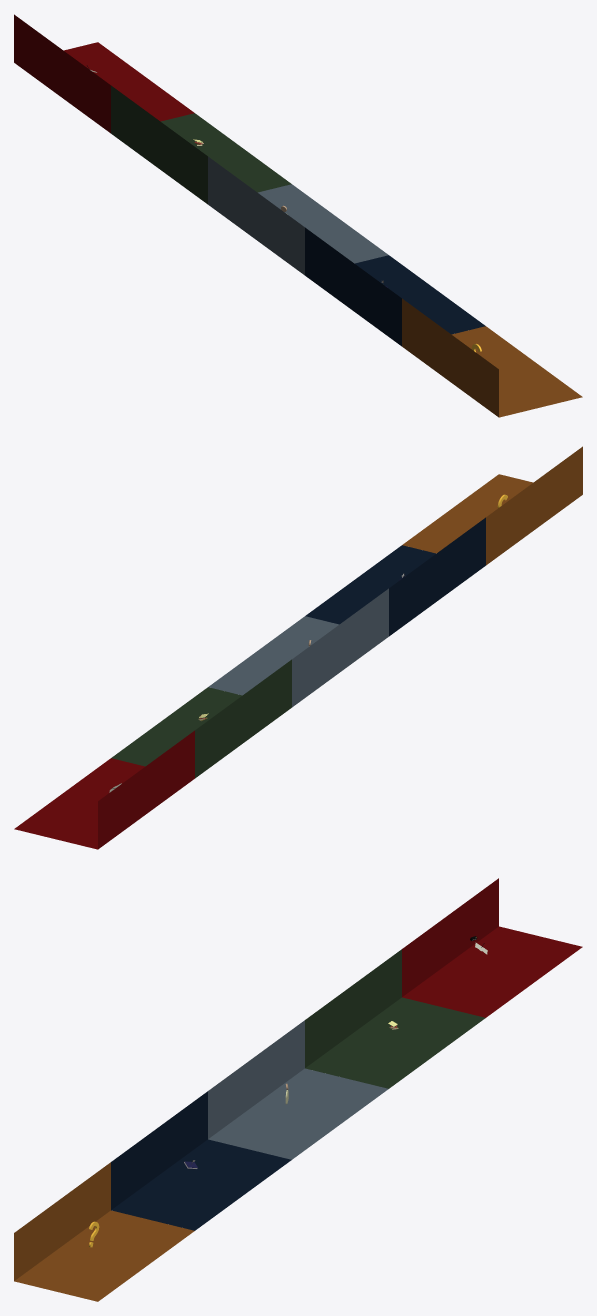
File: home.gltf
3 renders of one model, top to bottom at view 1: azimuth 30°, elevation 25°; view 2: azimuth 150°, elevation 25°; view 3: azimuth 330°, elevation 25°, orthographic.
Visible parts, largest first — view 1: petunjuk, evaluasi, materi, history, capaian; view 2: evaluasi, history, materi, capaian, petunjuk; view 3: evaluasi, materi, petunjuk, history, capaian.
Boxes of the visible parts, x1,y1,x2,y2 form: petunjuk: (402,298,582,417); evaluasi: (14,14,194,133); materi: (111,85,291,204); history: (208,156,388,275); capaian: (305,227,485,346); evaluasi: (14,730,194,849); history: (208,588,388,707); materi: (111,659,291,778); capaian: (305,517,485,636); petunjuk: (402,446,582,565); evaluasi: (402,878,582,1017); materi: (305,949,485,1088); petunjuk: (14,1162,194,1301); history: (208,1020,388,1159); capaian: (111,1091,291,1230).
Bounding box in the file's own units: 8 × 4.4 × 79.99.
